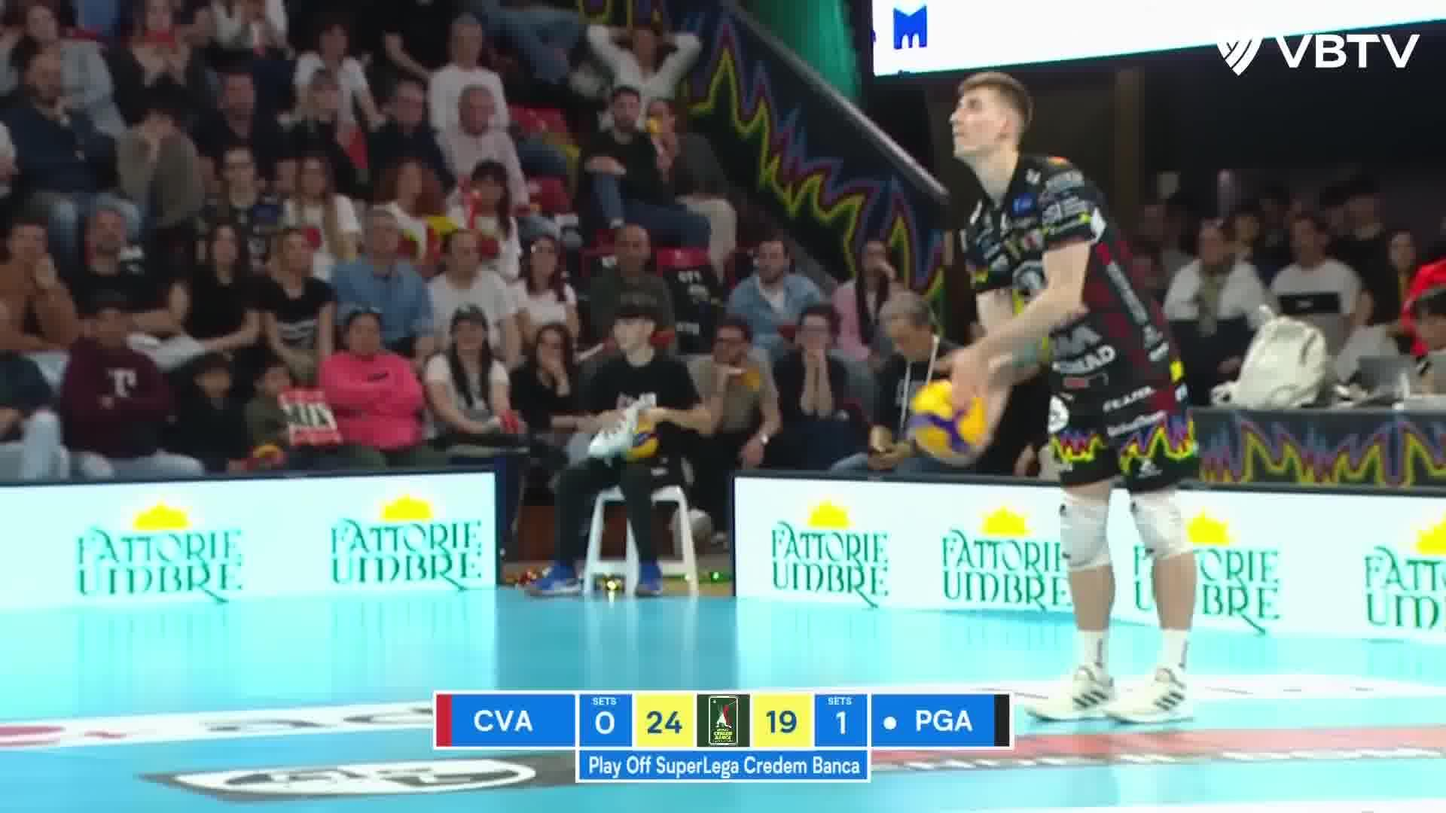balls: (908, 374, 990, 467)
